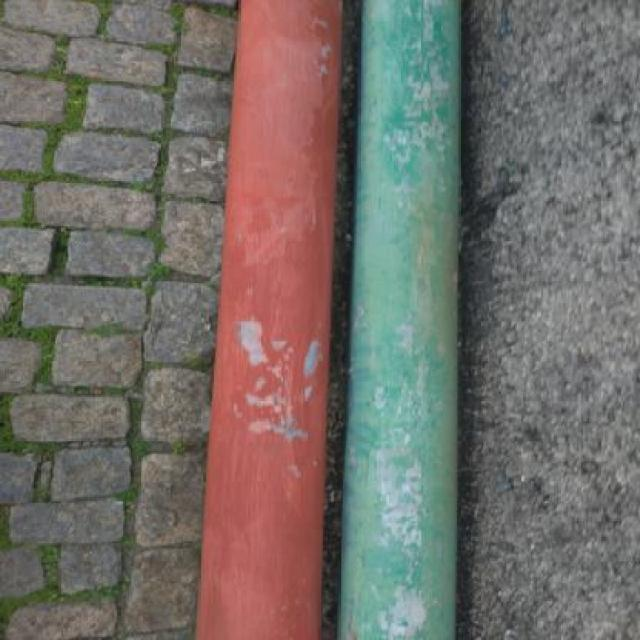gas: (199, 8, 339, 636), (342, 2, 459, 639)
